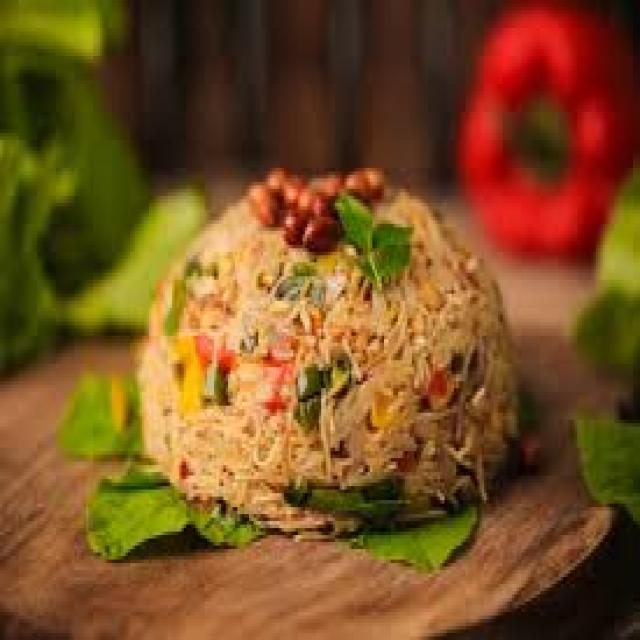UPMA: (137, 168, 519, 521)
